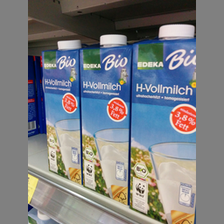milk: (131, 22, 195, 224), (80, 33, 129, 206), (35, 38, 85, 185)
